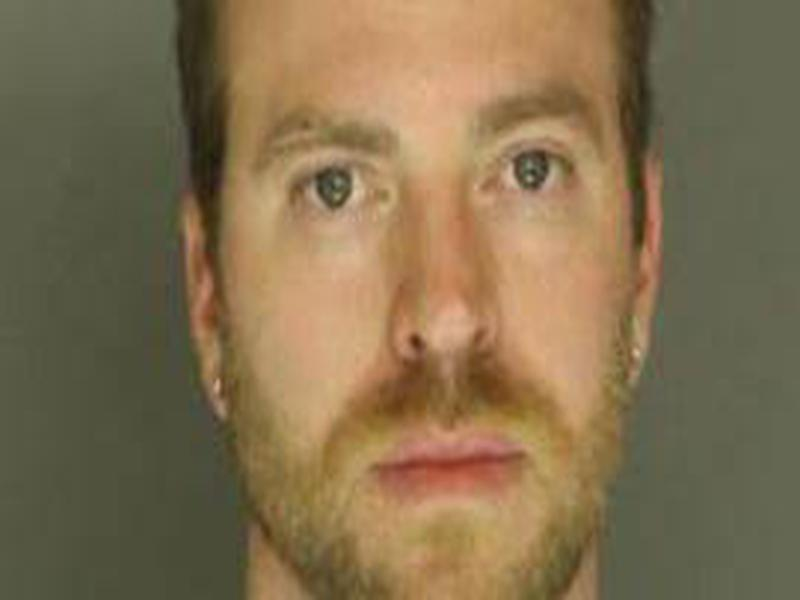without_mask: (216, 23, 638, 600)
